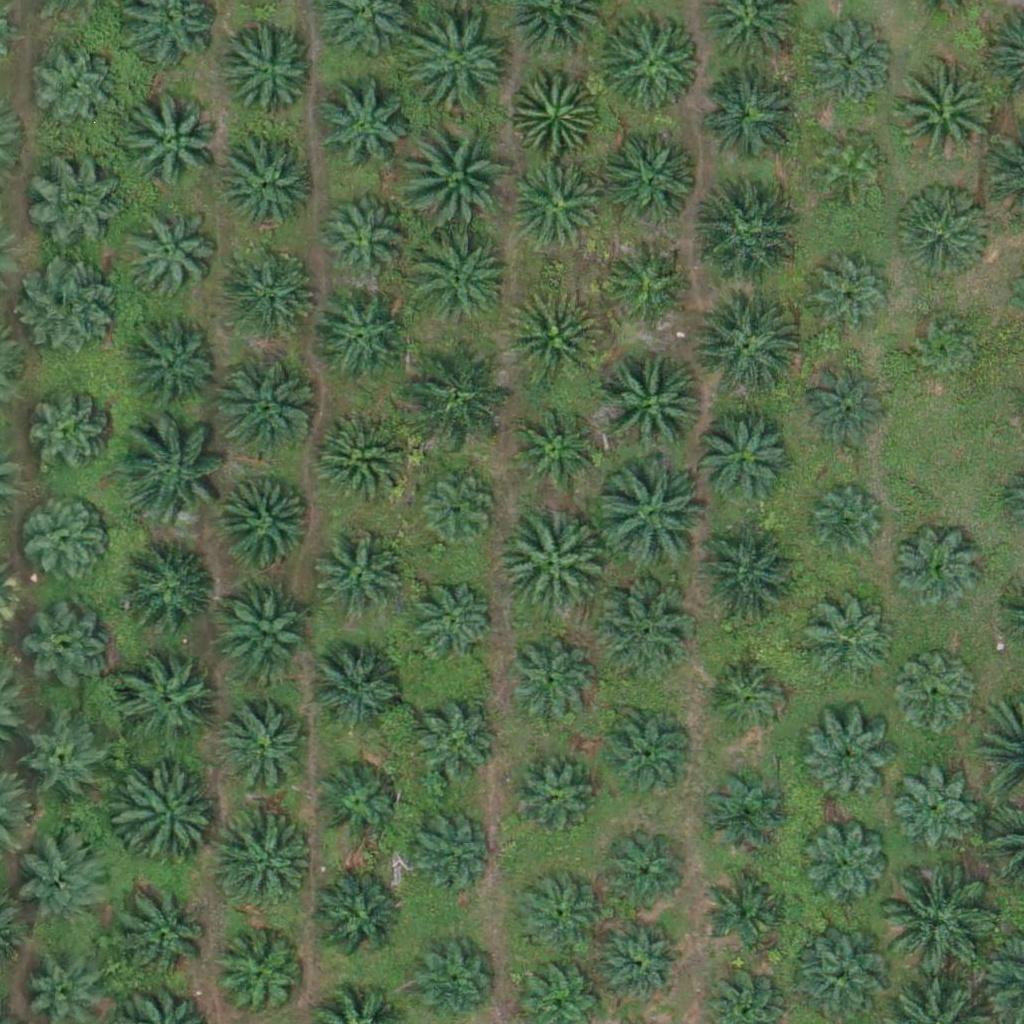Kelapa_Sawit: (685, 526, 798, 639), (594, 463, 707, 576), (120, 419, 233, 532), (405, 335, 518, 448), (405, 10, 518, 123), (600, 348, 712, 462), (881, 867, 993, 980), (494, 507, 606, 620), (404, 224, 516, 337), (399, 114, 511, 227), (686, 177, 798, 290), (687, 291, 799, 404), (694, 413, 794, 514), (591, 580, 691, 681), (308, 409, 408, 510), (310, 638, 410, 739), (306, 870, 406, 971), (216, 814, 316, 915), (120, 542, 220, 643), (116, 654, 216, 755), (116, 770, 216, 871), (26, 151, 126, 252), (24, 255, 124, 356), (127, 90, 227, 191), (120, 205, 220, 306), (124, 314, 224, 415), (218, 357, 318, 458), (217, 133, 317, 234), (310, 77, 410, 178), (313, 289, 413, 390), (503, 288, 603, 389), (602, 132, 702, 233), (601, 8, 701, 109), (701, 63, 801, 164), (893, 63, 993, 164), (215, 476, 315, 576), (216, 581, 316, 681), (118, 886, 218, 986), (19, 830, 119, 930), (225, 244, 325, 344), (220, 20, 320, 120), (894, 182, 994, 282), (802, 720, 890, 808), (802, 821, 890, 909), (416, 466, 504, 554), (405, 573, 493, 661), (409, 701, 497, 789), (402, 803, 490, 891), (504, 751, 592, 839), (602, 706, 690, 794), (703, 652, 791, 740), (892, 653, 980, 741), (318, 534, 406, 622), (31, 45, 119, 133), (514, 158, 602, 246), (510, 409, 598, 497), (608, 233, 696, 321), (801, 366, 889, 454), (808, 248, 896, 336), (515, 870, 602, 958), (506, 634, 593, 722), (600, 831, 687, 919), (601, 915, 688, 1003), (707, 862, 794, 950), (699, 765, 786, 853), (894, 524, 981, 612), (891, 766, 978, 854), (805, 597, 892, 685), (314, 756, 401, 844), (223, 700, 310, 788), (26, 394, 113, 482), (23, 503, 110, 591), (26, 602, 113, 690), (23, 719, 110, 807), (320, 191, 407, 279), (512, 66, 599, 154), (806, 15, 893, 103), (809, 487, 884, 563), (813, 129, 888, 204), (911, 313, 986, 388)
